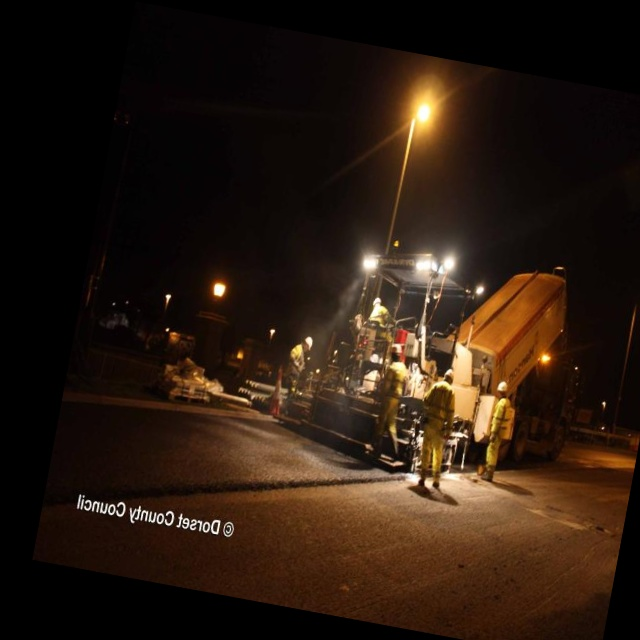Con_Chaleco: (424, 380, 457, 431), (488, 396, 518, 440)
